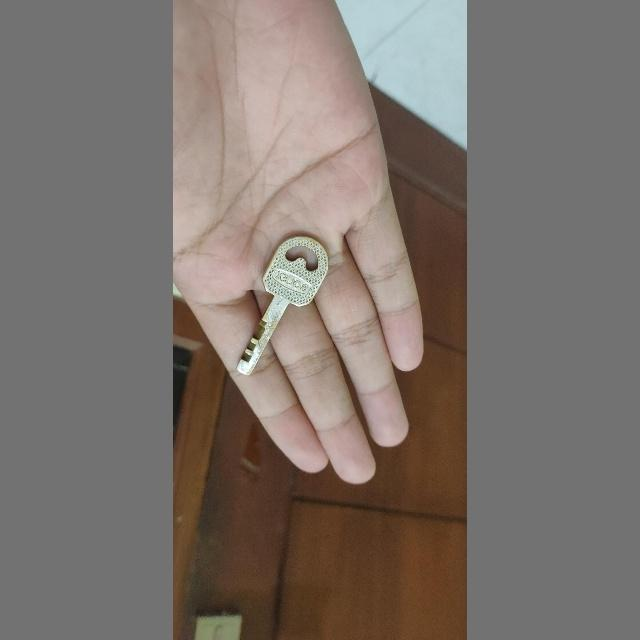Keys: (232, 232, 338, 384)
